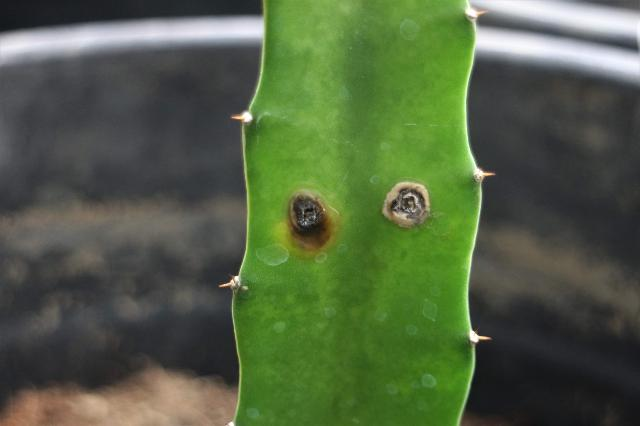stemcanker: (283, 187, 339, 256), (379, 179, 434, 232)
